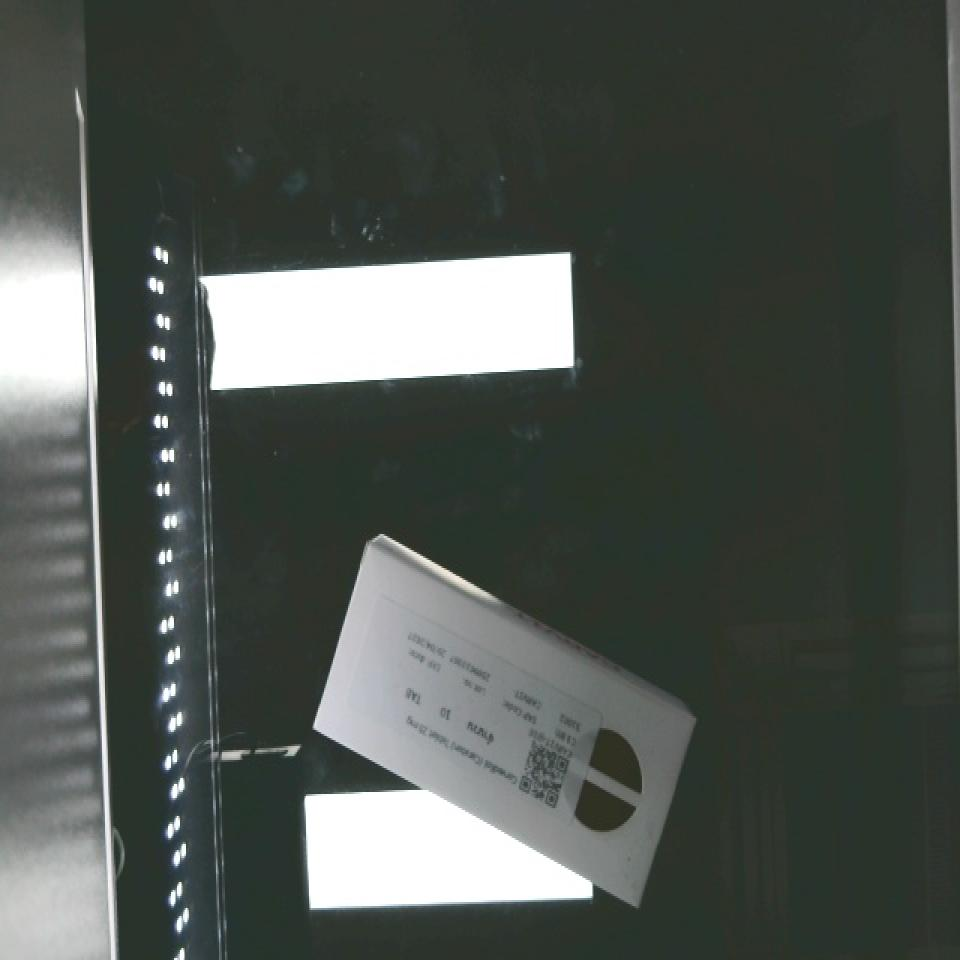medicine_box: (278, 540, 732, 908)
qr_code: (500, 728, 592, 815)
